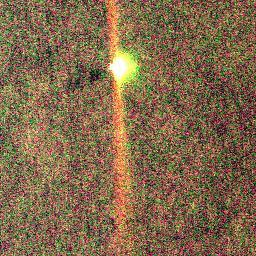Ship: (105, 48, 139, 87)
